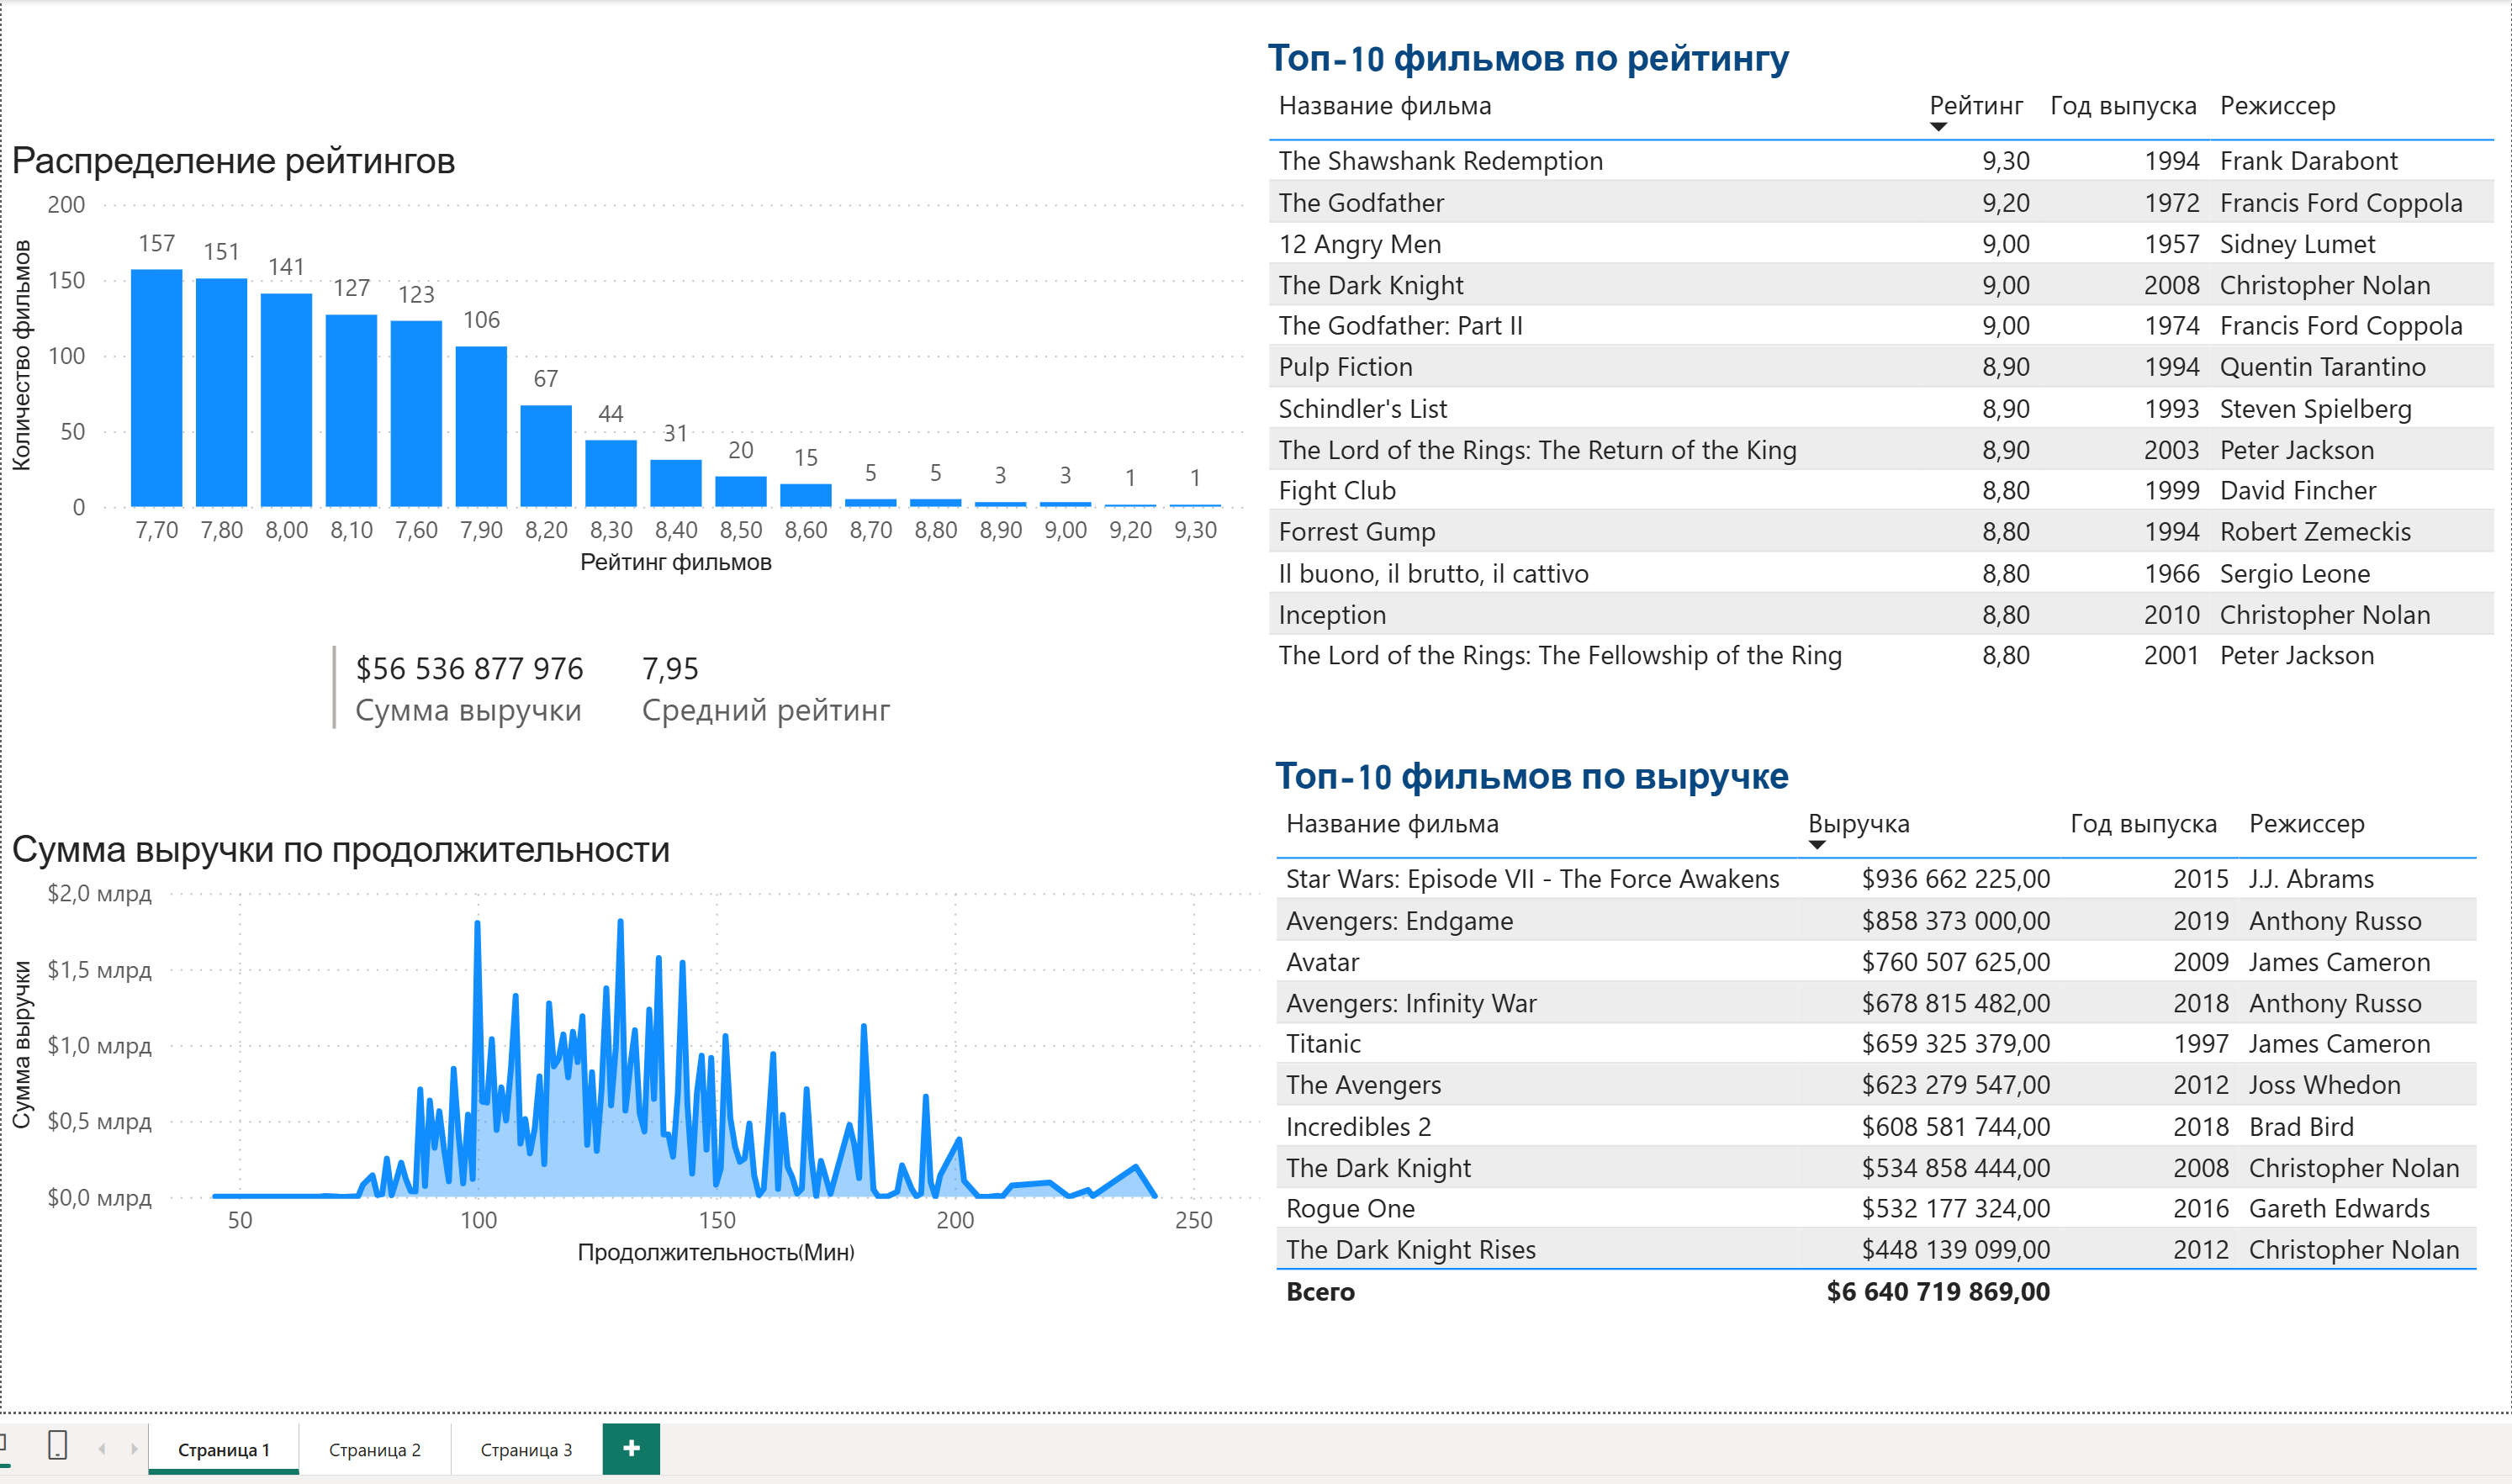

Layout of this report page (visuals, bound fields, positions):
{"tool":"powerbi","page":{"name":"Страница 1","canvas":[1280,720],"ordinal":0},"visuals":[{"type":"multiRowCard","fields":{"Values":["imdb_top_1000.Выручка","imdb_top_1000.Средний рейтинг"]},"box":[163.9,324.6,314.1,60.3],"z":0},{"type":"columnChart","title":"Распределение рейтингов","fields":{"Y":["imdb_top_1000.IMDB_Рейтинг"],"Category":["imdb_top_1000.IMDB_Рейтинг"]},"box":[0,71.5,640.3,226.6],"z":1000},{"type":"tableEx","title":"Топ-10 фильмов по рейтингу","fields":{"Values":["Таблица.Название","Таблица.IMDB_Рейтинг","Таблица.Год выпуска","Таблица.Режиссер"]},"box":[639.9,18.9,639.9,332.2],"z":3000},{"type":"tableEx","title":"Топ-10 фильмов по выручке","fields":{"Values":["Таблица 2.Название","Таблица 2.Выручка","Таблица 2.Год выпуска","Таблица 2.Режиссер"]},"box":[643.9,384.9,636,303.8],"z":4000},{"type":"stackedAreaChart","title":"Сумма выручки по продолжительности","fields":{"Category":["imdb_top_1000.Продолжительность(Мин)"],"Y":["imdb_top_1000.Выручка"]},"box":[0,422.6,646.8,227.4],"z":5000}]}

Visuals, with their boxes on the page's 1280x720 design canvas (x1, y1, x2, y2). These are canvas units, not pixel positions in the 2512x1484 screenshot, which may show the page scaled, cropped or inside an application window:
multiRowCard - imdb_top_1000.Выручка x imdb_top_1000.Средний рейтинг: detection(164, 325, 478, 385)
"Распределение рейтингов" columnChart: detection(0, 72, 640, 298)
"Топ-10 фильмов по рейтингу" tableEx: detection(640, 19, 1280, 351)
"Топ-10 фильмов по выручке" tableEx: detection(644, 385, 1280, 689)
"Сумма выручки по продолжительности" stackedAreaChart: detection(0, 423, 647, 650)
